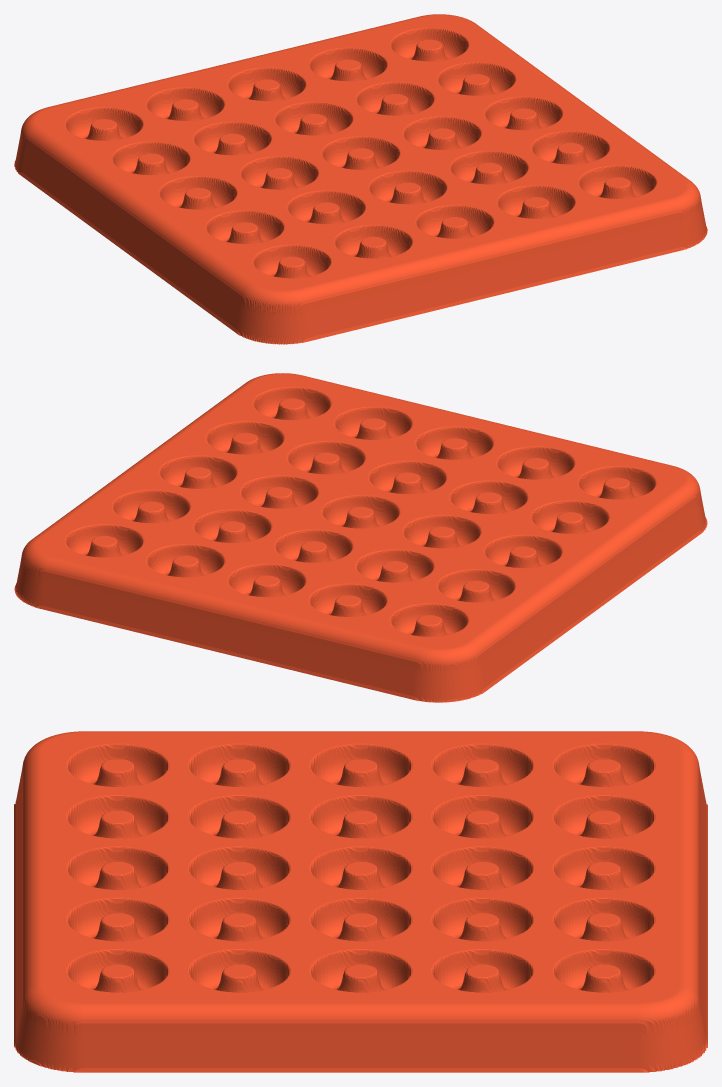
File: mold.glb
3 renders of one model, top to bottom at view 1: azimuth 30°, elevation 25°; view 2: azimuth 150°, elevation 25°; view 3: azimuth 270°, elevation 25°, orthographic. The views are drawn at different scales.
Visible parts, largest first — view 1: geometry_0; view 2: geometry_0; view 3: geometry_0.
Part boxes in pixels (x1,y1,x2,y2): geometry_0: (14, 14, 707, 344); geometry_0: (14, 373, 707, 702); geometry_0: (14, 731, 707, 1072).
Size of the model in its own units: 0.0902 by 0.0083 by 0.0902.
